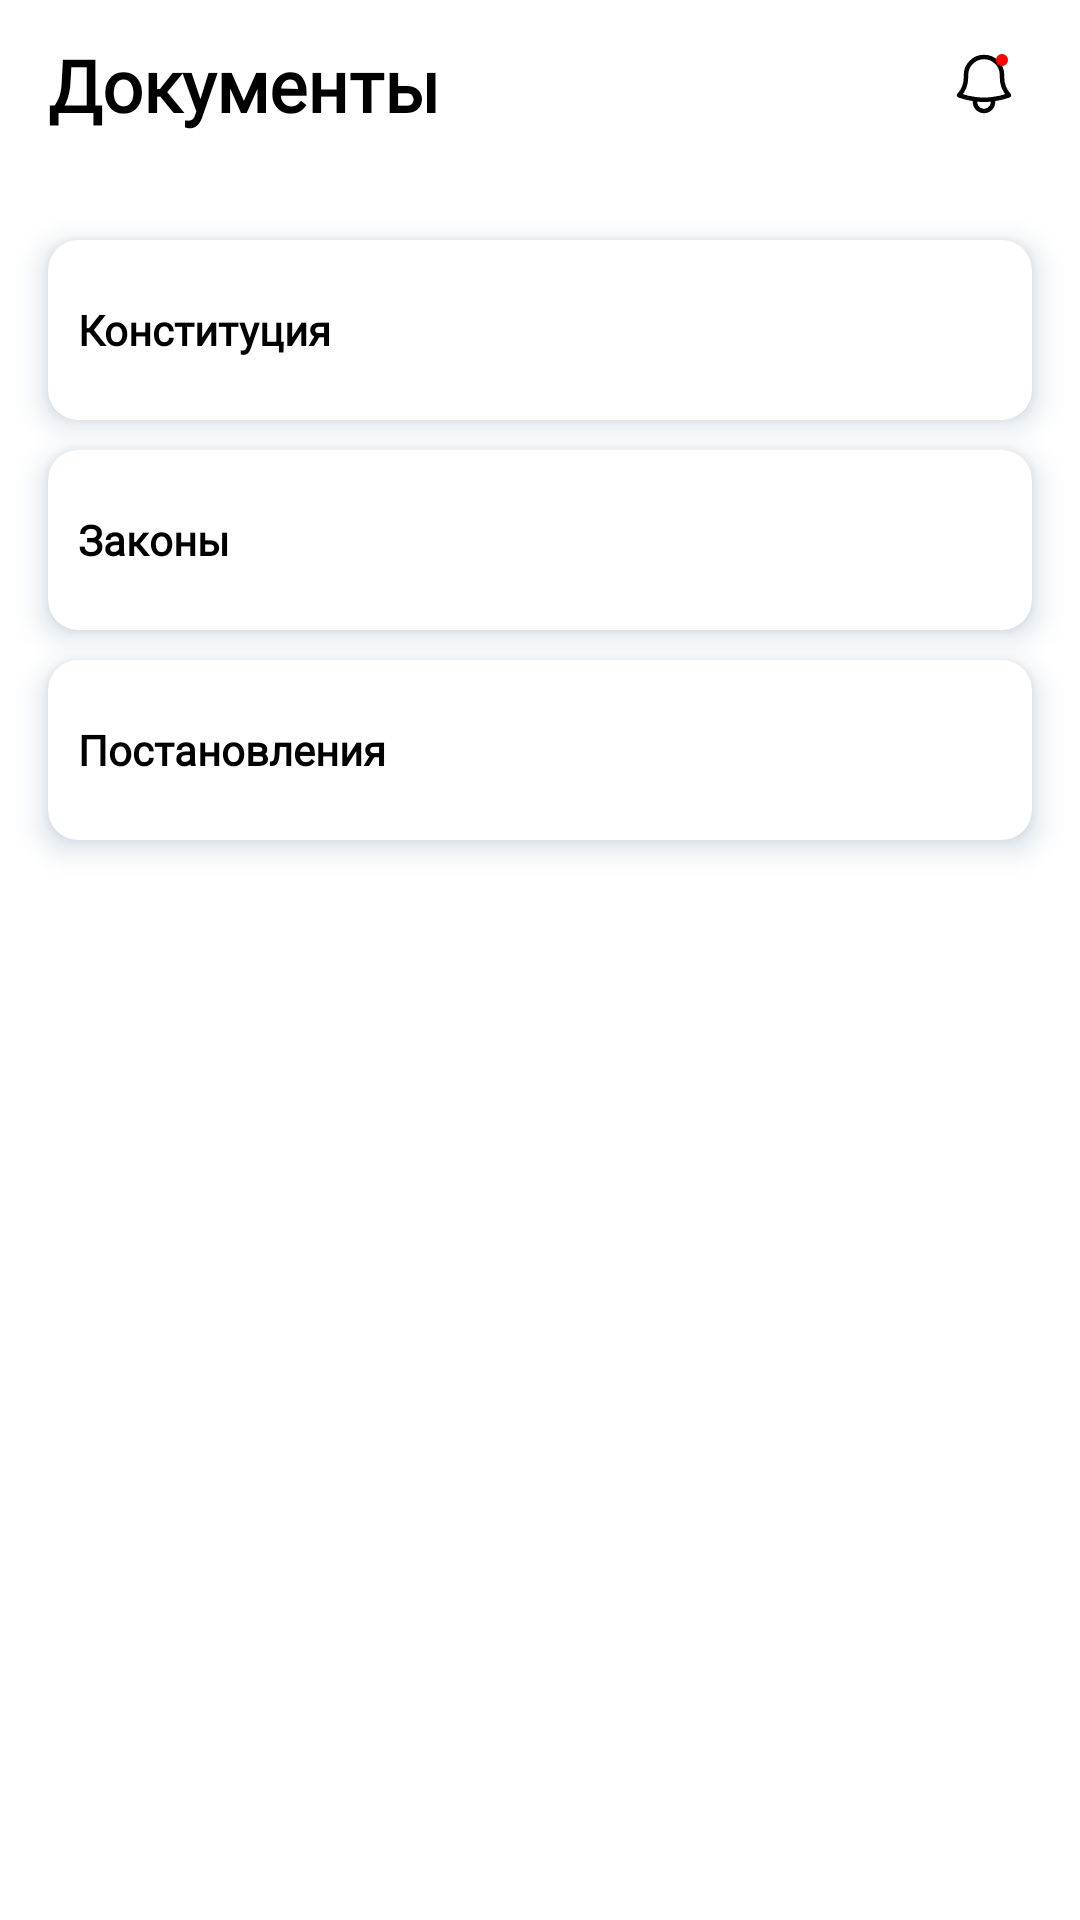

Named icons in this screenshot (1080px×1920px) and their centers, [x,y]:
bell not empty: [983,84]
